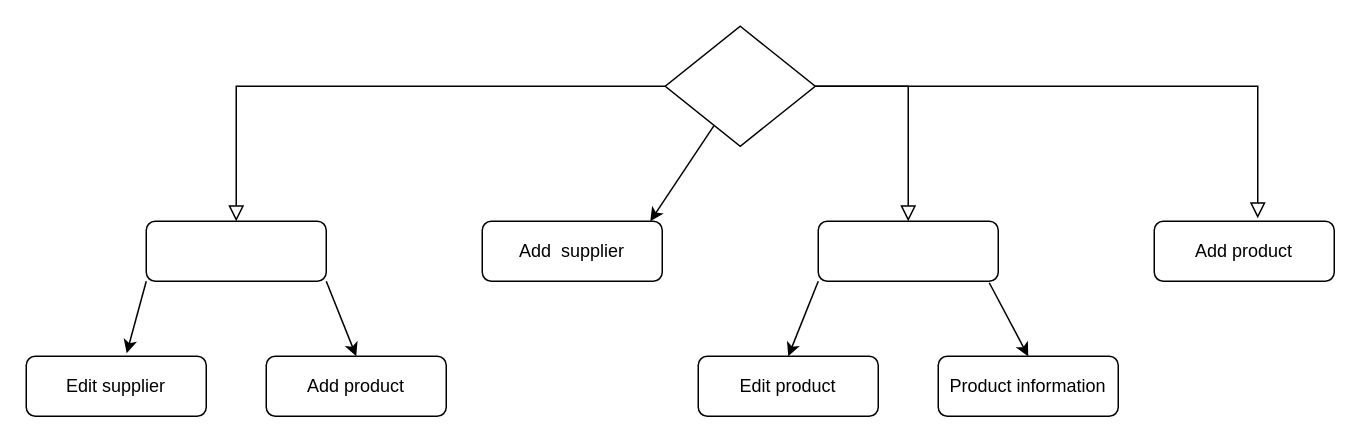
Some shapes in this 1361 by 443 pixel diagram are drawn without their labels. The shapes that lost their labels are listed below. From the top down, each one's centre as x and y in pixels, then its label:
point (739, 85): Homepage
point (235, 250): Manage suppliers
point (907, 250): Manage products
